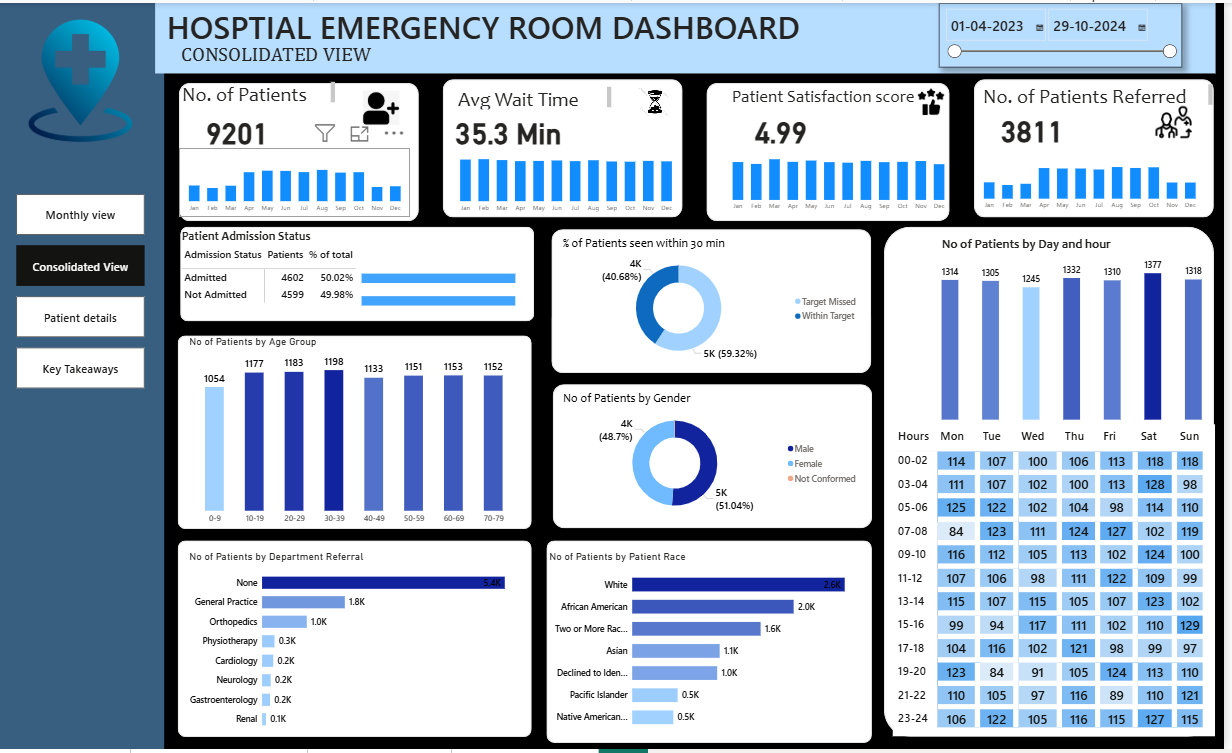

This screenshot's page, from the dashboard's own definition file:
{"tool":"powerbi","page":{"name":"Consolidated View","canvas":[2300,1400],"ordinal":1},"visuals":[{"type":"shape","box":[1660.6,419.4,619.2,956.9],"z":0},{"type":"shape","box":[0,0,310,1400.5],"z":1000},{"type":"shape","box":[337,150.4,450,259.2],"z":2000},{"type":"shape","box":[292.7,0,1989.9,132.3],"z":3000},{"type":"textbox","box":[309.1,0,1217.4,90.4],"z":4000},{"type":"textbox","box":[335.3,69,382.8,54.7],"z":5000},{"type":"card","fields":{"Values":["Hospital ER_Data.No of Patients"]},"box":[337,168.5,217.8,140],"z":6000},{"type":"slicer","fields":{"Values":["Date Table.Date"]},"box":[1764.7,0,456,121],"z":7000},{"type":"textbox","box":[337,142.6,298.1,51.8],"z":8000},{"type":"columnChart","fields":{"Category":["Date Table.Month Name"],"Y":["Hospital ER_Data.No of Patients"]},"box":[337,272.2,435.5,130],"z":9000},{"type":"shape","box":[832.7,142.2,450,259.2],"z":10000},{"type":"card","fields":{"Values":["Hospital ER_Data.AVG wait time"]},"box":[846.8,168.1,217.8,140],"z":11000},{"type":"textbox","box":[856.8,152.2,298.1,51.8],"z":12000},{"type":"columnChart","fields":{"Category":["Date Table.Month Name"],"Y":["Avg(Hospital ER_Data.Patient Waittime)"]},"box":[846.8,271.8,435.5,130],"z":13000},{"type":"shape","box":[1328.3,150.4,456.3,259.2],"z":14000},{"type":"card","fields":{"Values":["Hospital ER_Data.Satisfaction Score"]},"box":[1359.1,166.1,217.8,140],"z":15000},{"type":"textbox","box":[1368.8,150.4,414.8,51.8],"z":16000},{"type":"columnChart","fields":{"Category":["Date Table.Month Name"],"Y":["Hospital ER_Data.Satisfaction Score"]},"box":[1359.1,269.8,435.5,130],"z":17000},{"type":"shape","box":[1830.3,142.6,450,259.2],"z":18000},{"type":"shape","box":[340.6,419.4,664.2,177.3],"z":19000},{"type":"card","fields":{"Values":["Hospital ER_Data.No.of Patient Referred"]},"box":[1829.9,164,217.8,140],"z":20000},{"type":"textbox","box":[1840.6,147.8,440.7,51.8],"z":21000},{"type":"columnChart","fields":{"Category":["Date Table.Month Name"],"Y":["Hospital ER_Data.No.of Patient Referred"]},"box":[1829.9,267.7,435.5,130],"z":22000},{"type":"pivotTable","title":"Patient Admission Status","fields":{"Rows":["Hospital ER_Data.Admission Status"],"Values":["Hospital ER_Data.No of Patients1","Hospital ER_Data.No of Patients"]},"box":[337.7,422.2,582.6,177.3],"z":23000},{"type":"barChart","fields":{"Category":["Hospital ER_Data.Admission Status"],"Y":["Hospital ER_Data.No of Patients"]},"box":[675.5,472.8,323.7,123.8],"z":24000},{"type":"shape","box":[334.9,624.8,664.2,363.1],"z":25000},{"type":"clusteredColumnChart","fields":{"Category":["Hospital ER_Data.Age Group"],"Y":["Hospital ER_Data.No of Patients"]},"box":[351.8,624.8,630.5,363.1],"z":26000},{"type":"shape","box":[334.9,1007.6,664.2,368.7],"z":27000},{"type":"clusteredBarChart","fields":{"Y":["Hospital ER_Data.No of Patients"],"Category":["Hospital ER_Data.Department Referral"]},"box":[351.8,1027.3,630.5,349],"z":28000},{"type":"shape","box":[1035.7,425,600,270],"z":29000},{"type":"donutChart","title":"% of Patients seen within 30 min","fields":{"Category":["Hospital ER_Data.Wait time status"],"Y":["Hospital ER_Data.No of Patients"]},"box":[1052.6,436.3,568.5,244.9],"z":30000},{"type":"shape","box":[1038.6,714.9,599.5,270.2],"z":31000},{"type":"donutChart","title":"No of Patients by Gender","fields":{"Y":["Hospital ER_Data.No of Patients"],"Category":["Hospital ER_Data.Patient Gender"]},"box":[1052.6,726.1,568.5,244.9],"z":32000},{"type":"shape","box":[1027.3,1007.6,610.8,380],"z":33000},{"type":"pivotTable","fields":{"Rows":["Hospital ER_Data.Waittime Interval"],"Columns":["Date Table.Day Name"],"Values":["Hospital ER_Data.No of Patients"]},"box":[1677.5,790.9,605.1,585.4],"z":34000},{"type":"clusteredBarChart","fields":{"Y":["Hospital ER_Data.No of Patients"],"Category":["Hospital ER_Data.Patient Race"]},"box":[1027.3,1027.3,593.9,349],"z":35000},{"type":"columnChart","title":"No of Patients by Day and hour","fields":{"Category":["Date Table.Day Name"],"Y":["Hospital ER_Data.No of Patients"]},"box":[1764.7,436.3,501,351.8],"z":36000},{"type":"image","box":[33.3,23.8,240.2,244.9],"z":37000},{"type":"image","box":[1719.1,142.7,59.4,85.6],"z":38000},{"type":"image","box":[1196,154.6,66.6,61.8],"z":39000},{"type":"image","box":[2144.7,176,121.3,95.1],"z":40000},{"type":"image","box":[677.7,156.9,78.5,78.5],"z":41000},{"type":"pageNavigator","box":[33.3,359,240.2,366.2],"z":42000}]}

Visuals, with their boxes on the page's 2300x1400 design canvas (x1, y1, x2, y2). These are canvas units, not pixel positions in the 1232x753 screenshot, which may show the page scaled, cropped or inside an application window:
shape: x1=1661, y1=419, x2=2280, y2=1376
shape: x1=0, y1=0, x2=310, y2=1400
shape: x1=337, y1=150, x2=787, y2=410
shape: x1=293, y1=0, x2=2283, y2=132
textbox: x1=309, y1=0, x2=1526, y2=90
textbox: x1=335, y1=69, x2=718, y2=124
card - Hospital ER_Data.No of Patients: x1=337, y1=168, x2=555, y2=308
slicer - Date Table.Date: x1=1765, y1=0, x2=2221, y2=121
textbox: x1=337, y1=143, x2=635, y2=194
columnChart - Date Table.Month Name x Hospital ER_Data.No of Patients: x1=337, y1=272, x2=772, y2=402
shape: x1=833, y1=142, x2=1283, y2=401
card - Hospital ER_Data.AVG wait time: x1=847, y1=168, x2=1065, y2=308
textbox: x1=857, y1=152, x2=1155, y2=204
columnChart - Date Table.Month Name x Avg(Hospital ER_Data.Patient Waittime): x1=847, y1=272, x2=1282, y2=402
shape: x1=1328, y1=150, x2=1785, y2=410
card - Hospital ER_Data.Satisfaction Score: x1=1359, y1=166, x2=1577, y2=306
textbox: x1=1369, y1=150, x2=1784, y2=202
columnChart - Date Table.Month Name x Hospital ER_Data.Satisfaction Score: x1=1359, y1=270, x2=1795, y2=400
shape: x1=1830, y1=143, x2=2280, y2=402
shape: x1=341, y1=419, x2=1005, y2=597
card - Hospital ER_Data.No.of Patient Referred: x1=1830, y1=164, x2=2048, y2=304
textbox: x1=1841, y1=148, x2=2281, y2=200
columnChart - Date Table.Month Name x Hospital ER_Data.No.of Patient Referred: x1=1830, y1=268, x2=2265, y2=398
"Patient Admission Status" pivotTable: x1=338, y1=422, x2=920, y2=600
barChart - Hospital ER_Data.Admission Status x Hospital ER_Data.No of Patients: x1=676, y1=473, x2=999, y2=597
shape: x1=335, y1=625, x2=999, y2=988
clusteredColumnChart - Hospital ER_Data.Age Group x Hospital ER_Data.No of Patients: x1=352, y1=625, x2=982, y2=988
shape: x1=335, y1=1008, x2=999, y2=1376
clusteredBarChart - Hospital ER_Data.No of Patients x Hospital ER_Data.Department Referral: x1=352, y1=1027, x2=982, y2=1376
shape: x1=1036, y1=425, x2=1636, y2=695
"% of Patients seen within 30 min" donutChart: x1=1053, y1=436, x2=1621, y2=681
shape: x1=1039, y1=715, x2=1638, y2=985
"No of Patients by Gender" donutChart: x1=1053, y1=726, x2=1621, y2=971
shape: x1=1027, y1=1008, x2=1638, y2=1388
pivotTable - Hospital ER_Data.Waittime Interval x Date Table.Day Name: x1=1678, y1=791, x2=2283, y2=1376
clusteredBarChart - Hospital ER_Data.No of Patients x Hospital ER_Data.Patient Race: x1=1027, y1=1027, x2=1621, y2=1376
"No of Patients by Day and hour" columnChart: x1=1765, y1=436, x2=2266, y2=788
image: x1=33, y1=24, x2=274, y2=269
image: x1=1719, y1=143, x2=1778, y2=228
image: x1=1196, y1=155, x2=1263, y2=216
image: x1=2145, y1=176, x2=2266, y2=271
image: x1=678, y1=157, x2=756, y2=235
pageNavigator: x1=33, y1=359, x2=274, y2=725
